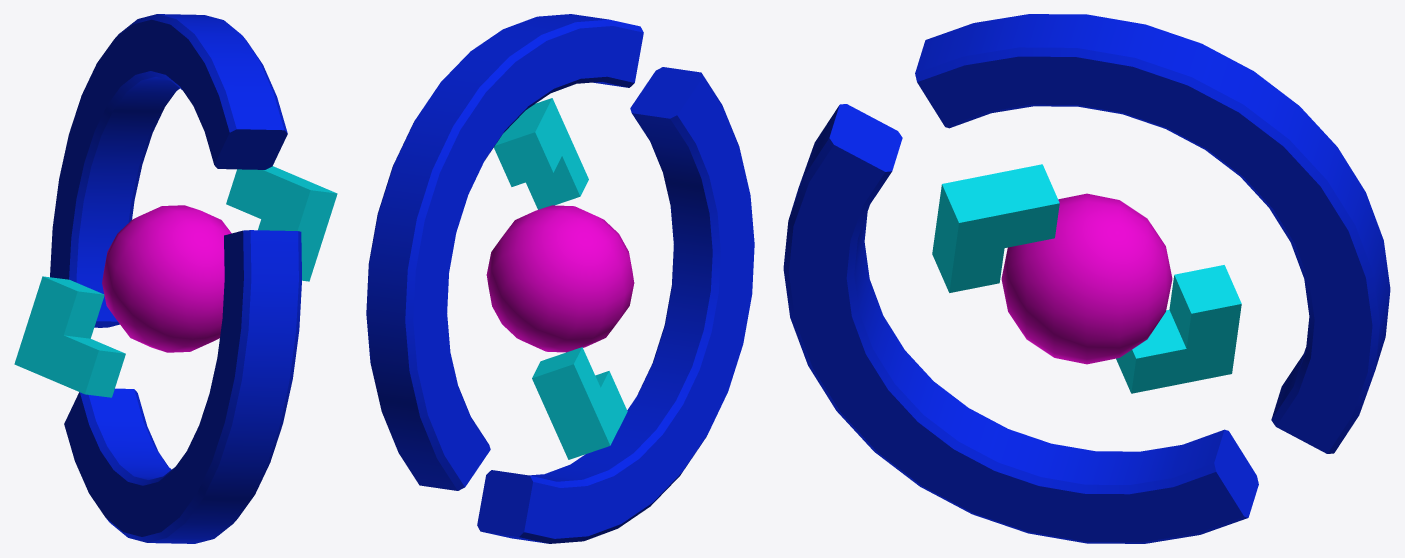
The model's file is construckt.fbx.
3 renders of one model, left to right at view 1: azimuth 30°, elevation 25°; view 2: azimuth 150°, elevation 25°; view 3: azimuth 270°, elevation 25°, orthographic. The views are drawn at different scales.
Visible parts, largest first — view 1: Circle, Sphere, Cube.002; view 2: Circle, Sphere, Cube.002; view 3: Circle, Sphere, Cube.002.
Boxes of the visible parts, x1,y1,x2,y2 form: Circle: [50, 14, 301, 543]; Sphere: [102, 205, 231, 352]; Cube.002: [14, 166, 337, 397]; Circle: [366, 14, 754, 543]; Sphere: [486, 205, 634, 352]; Cube.002: [494, 98, 627, 459]; Circle: [783, 14, 1390, 543]; Sphere: [1001, 193, 1172, 364]; Cube.002: [932, 164, 1241, 393].
Size of the model in its own units: 105 by 227 by 227.
